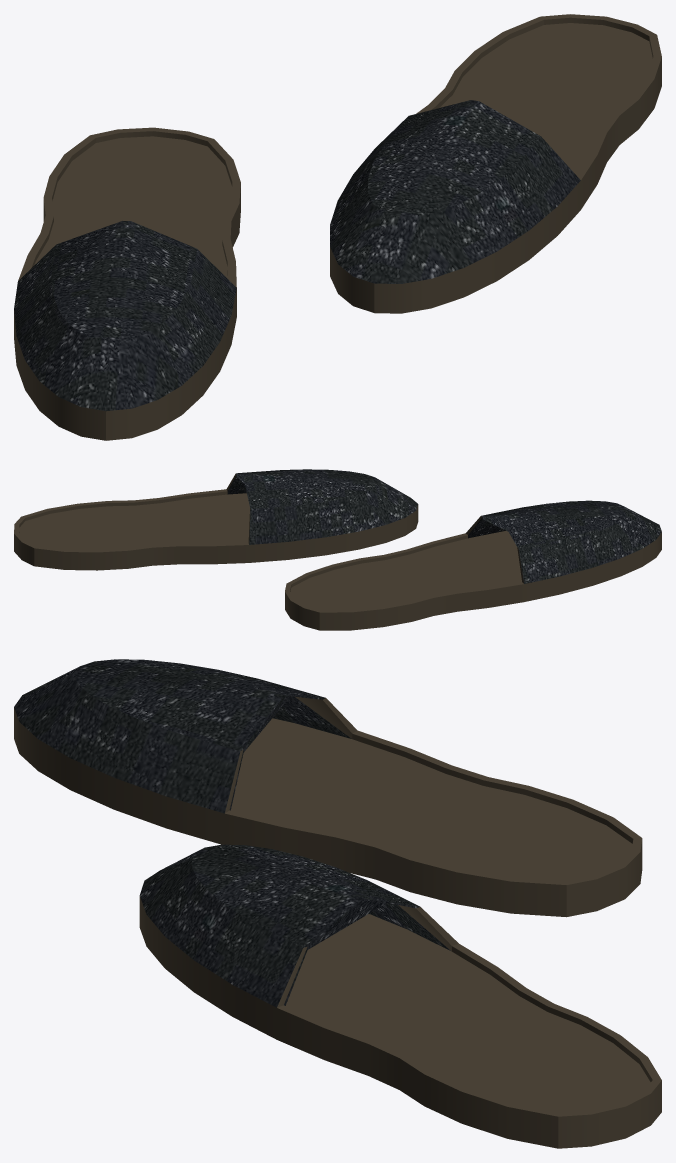
Rendered from ТАПКИ ХУЕВЫЕ2.fbx.
The picture shows the model from 3 angles, top to bottom: view 1: azimuth 30°, elevation 25°; view 2: azimuth 150°, elevation 25°; view 3: azimuth 270°, elevation 25°; orthographic projection. The views are drawn at different scales.
Parts seen in each view (by area): view 1: Окружность.027, Окружность.026; view 2: Окружность.027, Окружность.026; view 3: Окружность.026, Окружность.027.
Part boxes in pixels (x1=…): Окружность.027: x1=330, y1=14, x2=661, y2=313; Окружность.026: x1=14, y1=127, x2=240, y2=440; Окружность.027: x1=14, y1=469, x2=418, y2=570; Окружность.026: x1=285, y1=500, x2=661, y2=630; Окружность.026: x1=14, y1=659, x2=642, y2=917; Окружность.027: x1=139, y1=844, x2=661, y2=1148.
Bounding box in the file's own units: 301 × 34 × 191.
2 materials, 1 textured.
